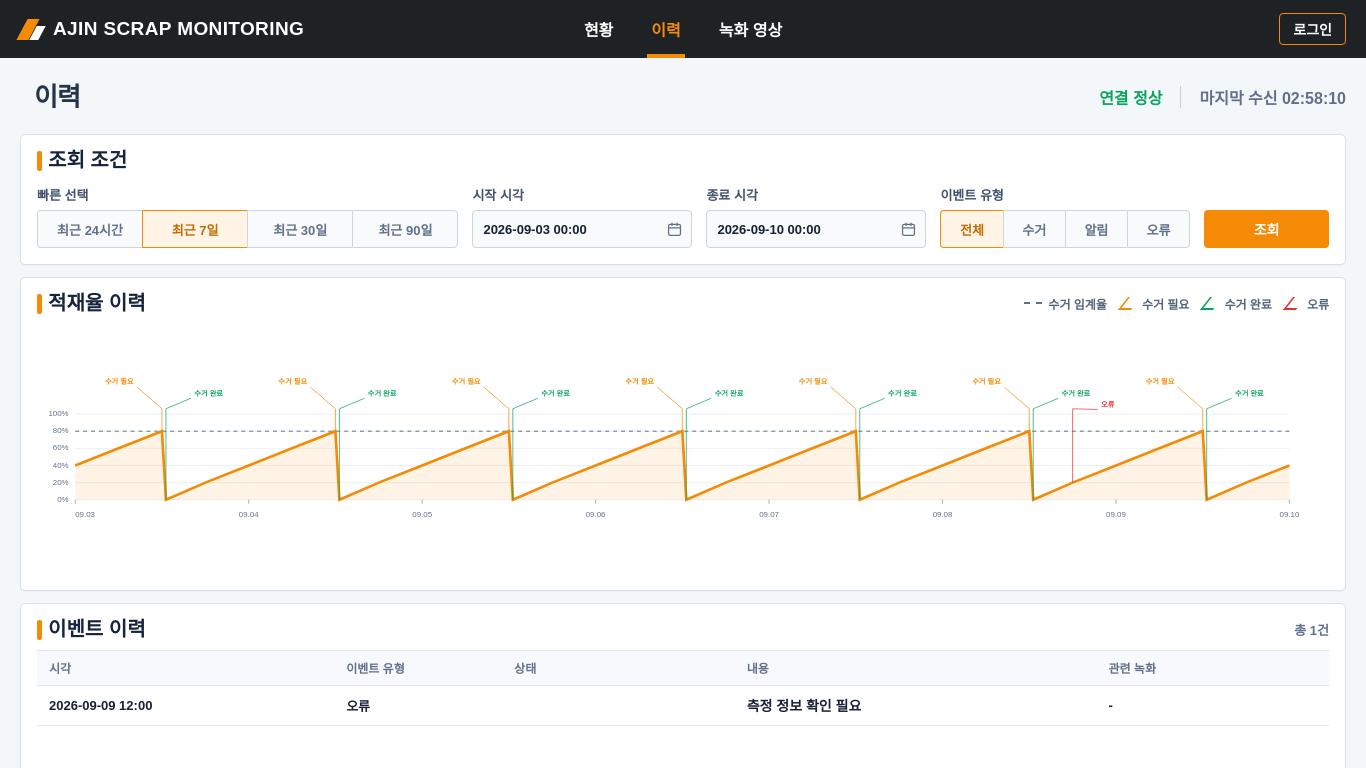
Test: 알림 API와 무관하게 이벤트 제목과 서버 설명을 상세 모달에 분리한다
Expected: the text "서버 상세 설명" is not shown
Click the button with aria-label "측정 정보 확인 필요 상세 보기". click: (804, 705)
box: x1=747 y1=695 x2=861 y2=715
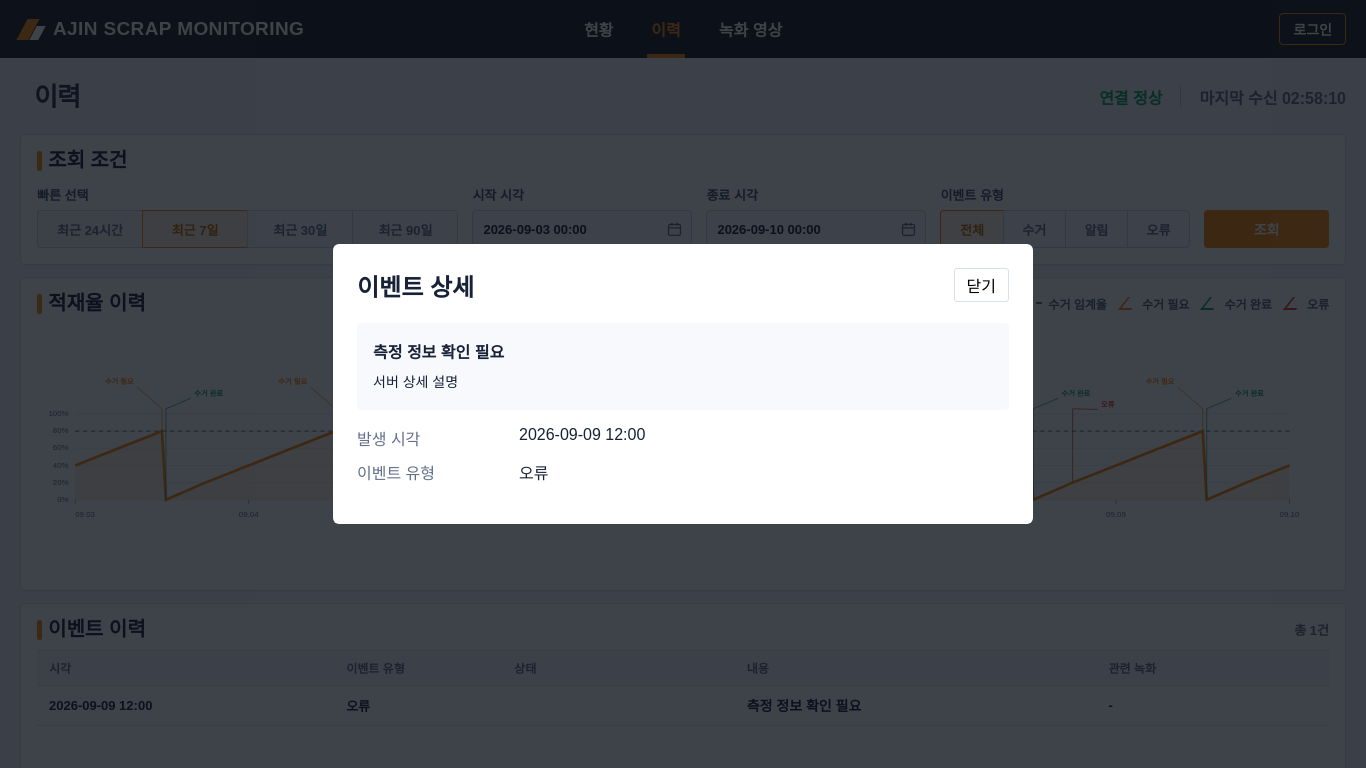
Result: the text "서버 상세 설명" is shown at x1=373 y1=374 x2=458 y2=390
Result: the text "발생 시각" is shown at x1=357 y1=431 x2=420 y2=448
Press Escape
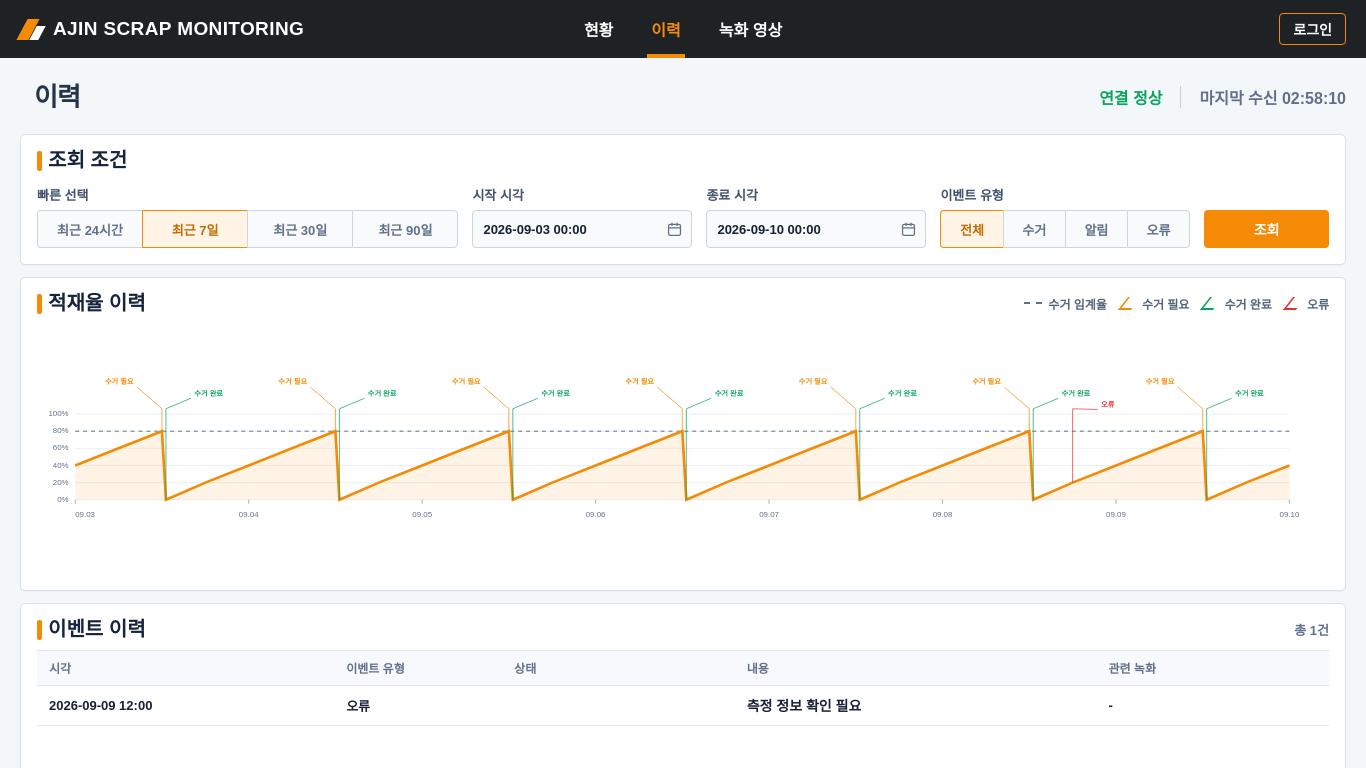
Result: the dialog is gone
